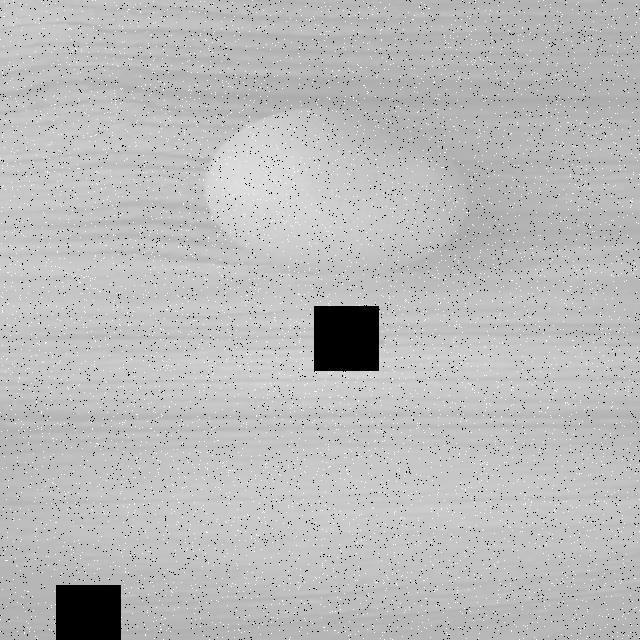egg: (194, 99, 482, 284)
